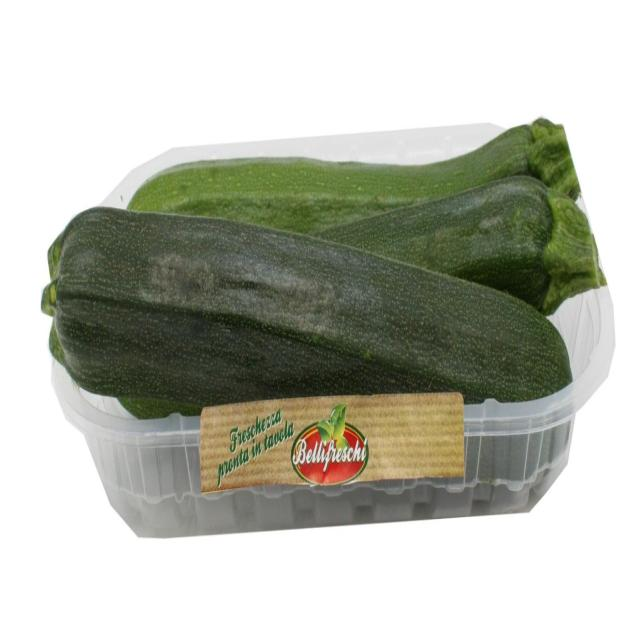Zucchini: (55, 209, 563, 396)
